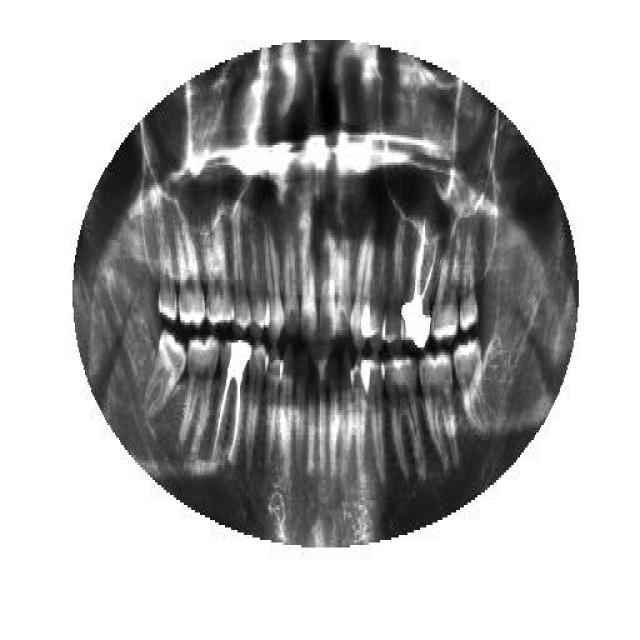Impacted Tooth: (144, 328, 188, 422)
Implant: (400, 215, 441, 350), (210, 340, 252, 468)
